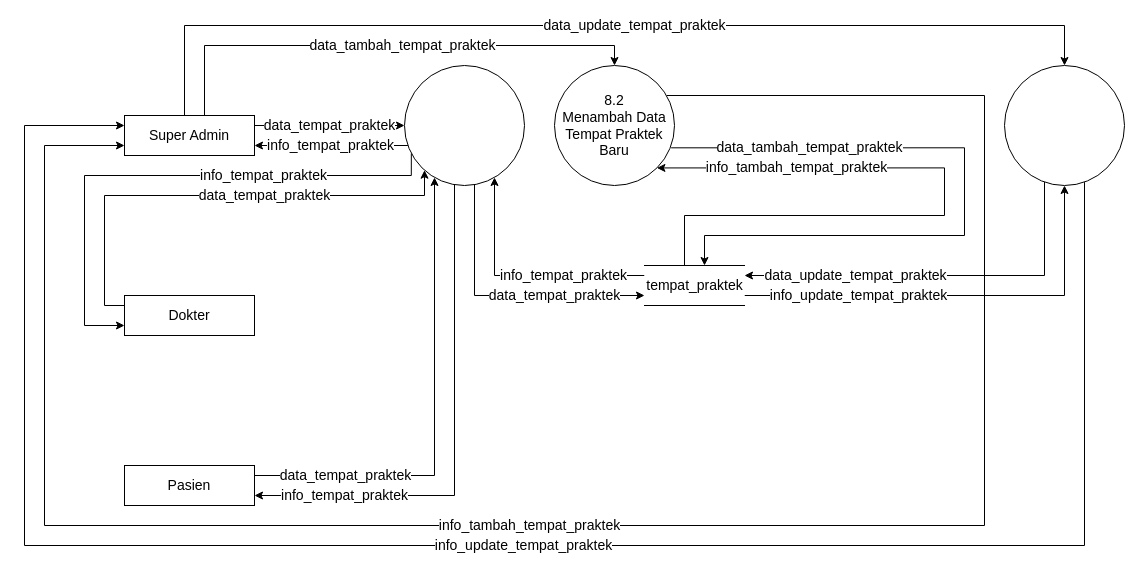
The diagram is 1142 pixels wide and 571 high, and some of its shapes have lost their labels. Each missing label, with the centre of its shape:
"8.1 Menampilkan Daftar Tempat Praktek" goes at [464,125].
"8.3 Mengubah Data Tempat Praktek" goes at [1064,125].
